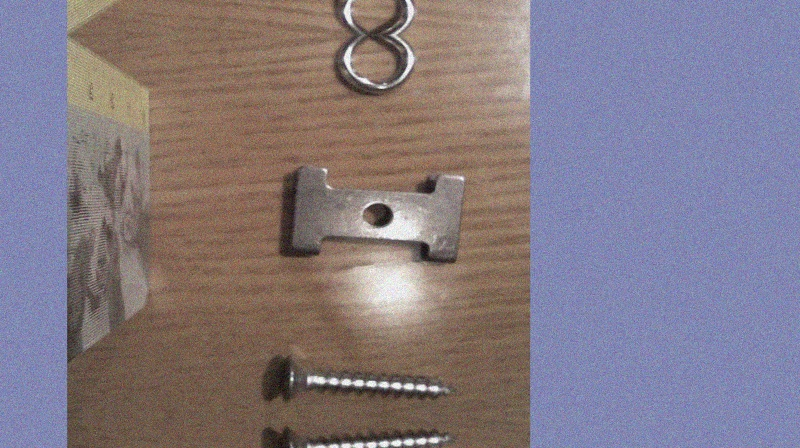O001: (333, 0, 418, 96)
O002: (283, 162, 467, 265)
S001: (273, 345, 458, 410)
